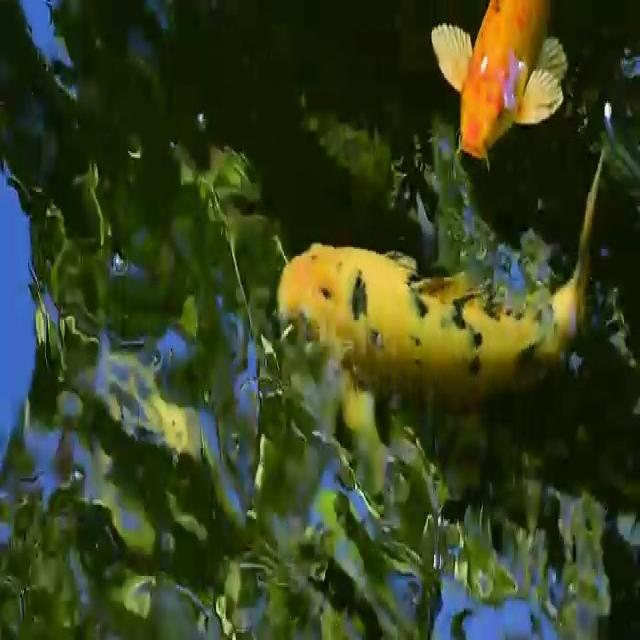fish: (264, 144, 640, 393), (412, 1, 576, 182)
